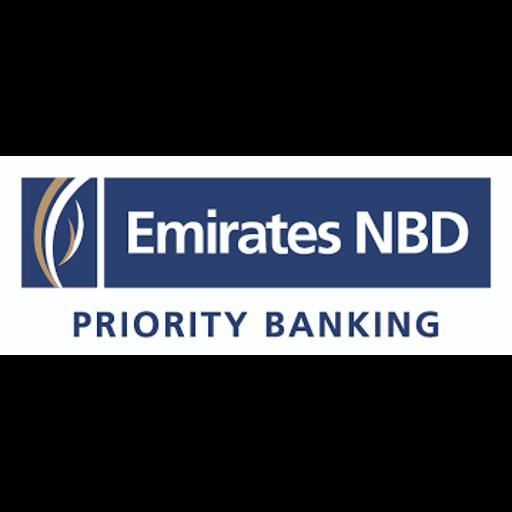Emirates NBD: (0, 156, 512, 355)
